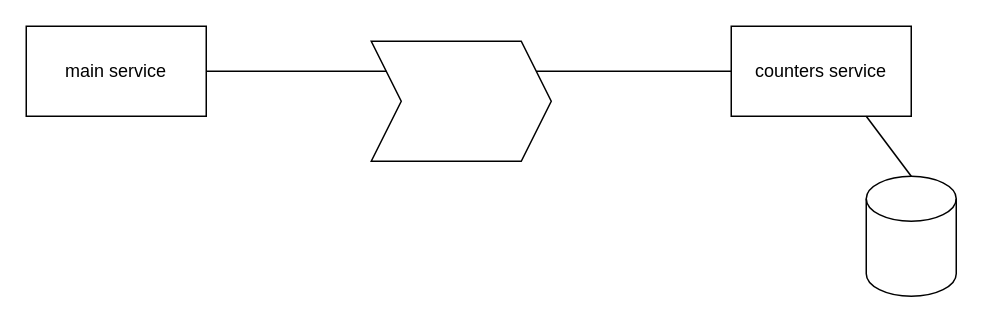
Image size: 983x323. Some labels were removed from this diagram. The centre of each missing label's shape, as x and y in pixels:
"Redis" goes at point (910, 235).
"RMQ" goes at point (460, 100).
